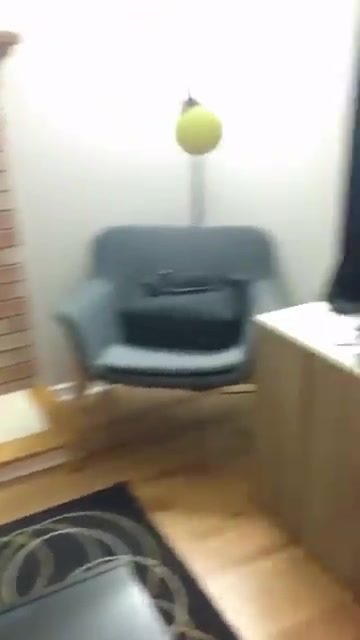tennis_ball: (171, 102, 224, 159)
